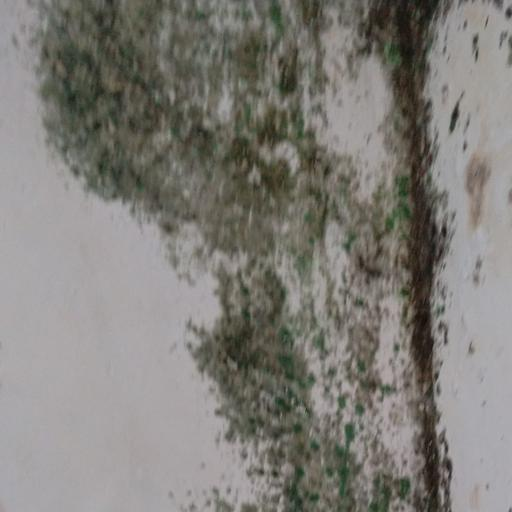algae: (36, 4, 478, 510)
